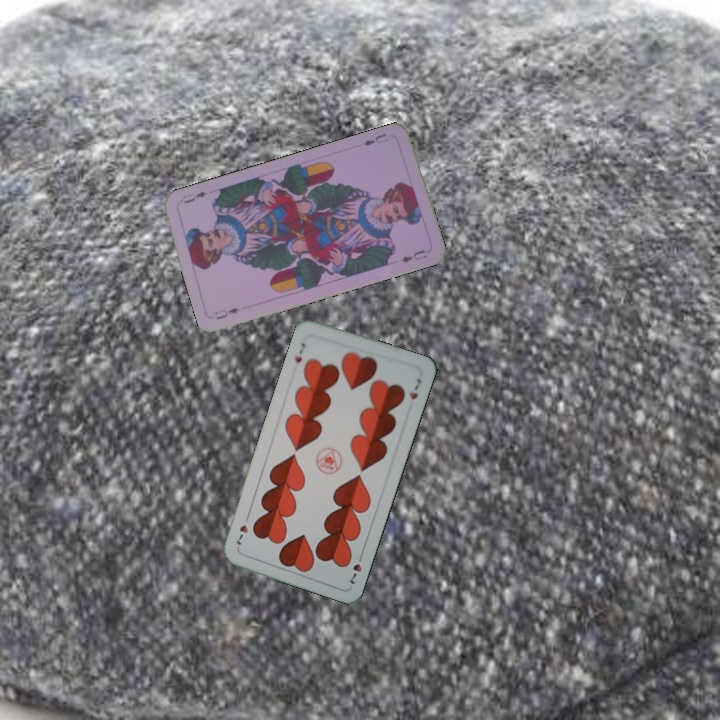EU: (359, 129, 391, 148), (211, 303, 242, 322)
H7: (345, 549, 366, 587), (290, 339, 308, 366)
